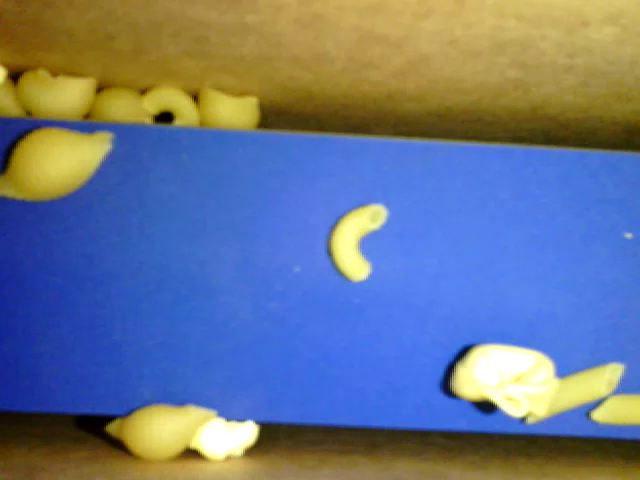elbow: (330, 202, 388, 283), (140, 88, 200, 127)
penne: (523, 362, 623, 427), (587, 394, 639, 425)
shell: (2, 127, 113, 202), (105, 402, 215, 460), (16, 68, 100, 122), (89, 87, 157, 125), (195, 87, 259, 127)
tortellini: (451, 341, 557, 418)
